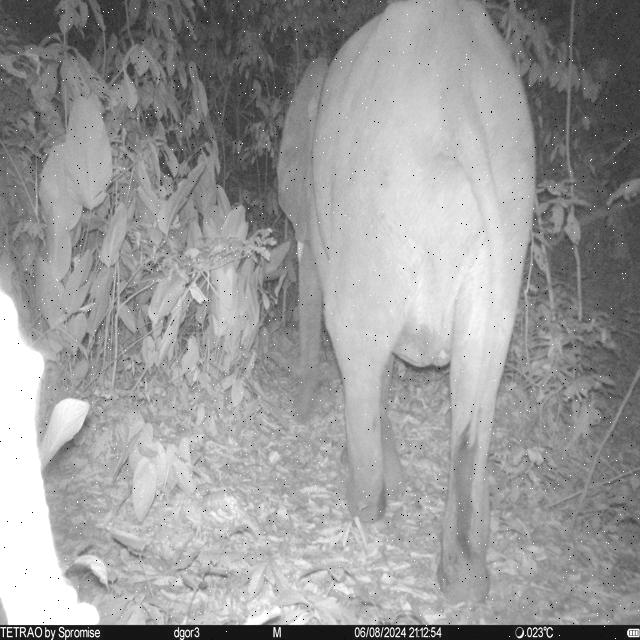elephant: (275, 0, 538, 602)
tusk: (296, 240, 304, 262)
